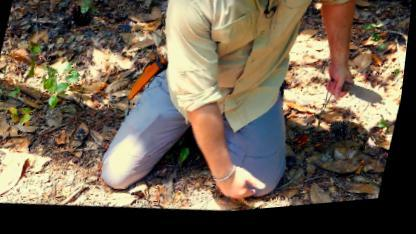knife: (321, 72, 393, 120)
